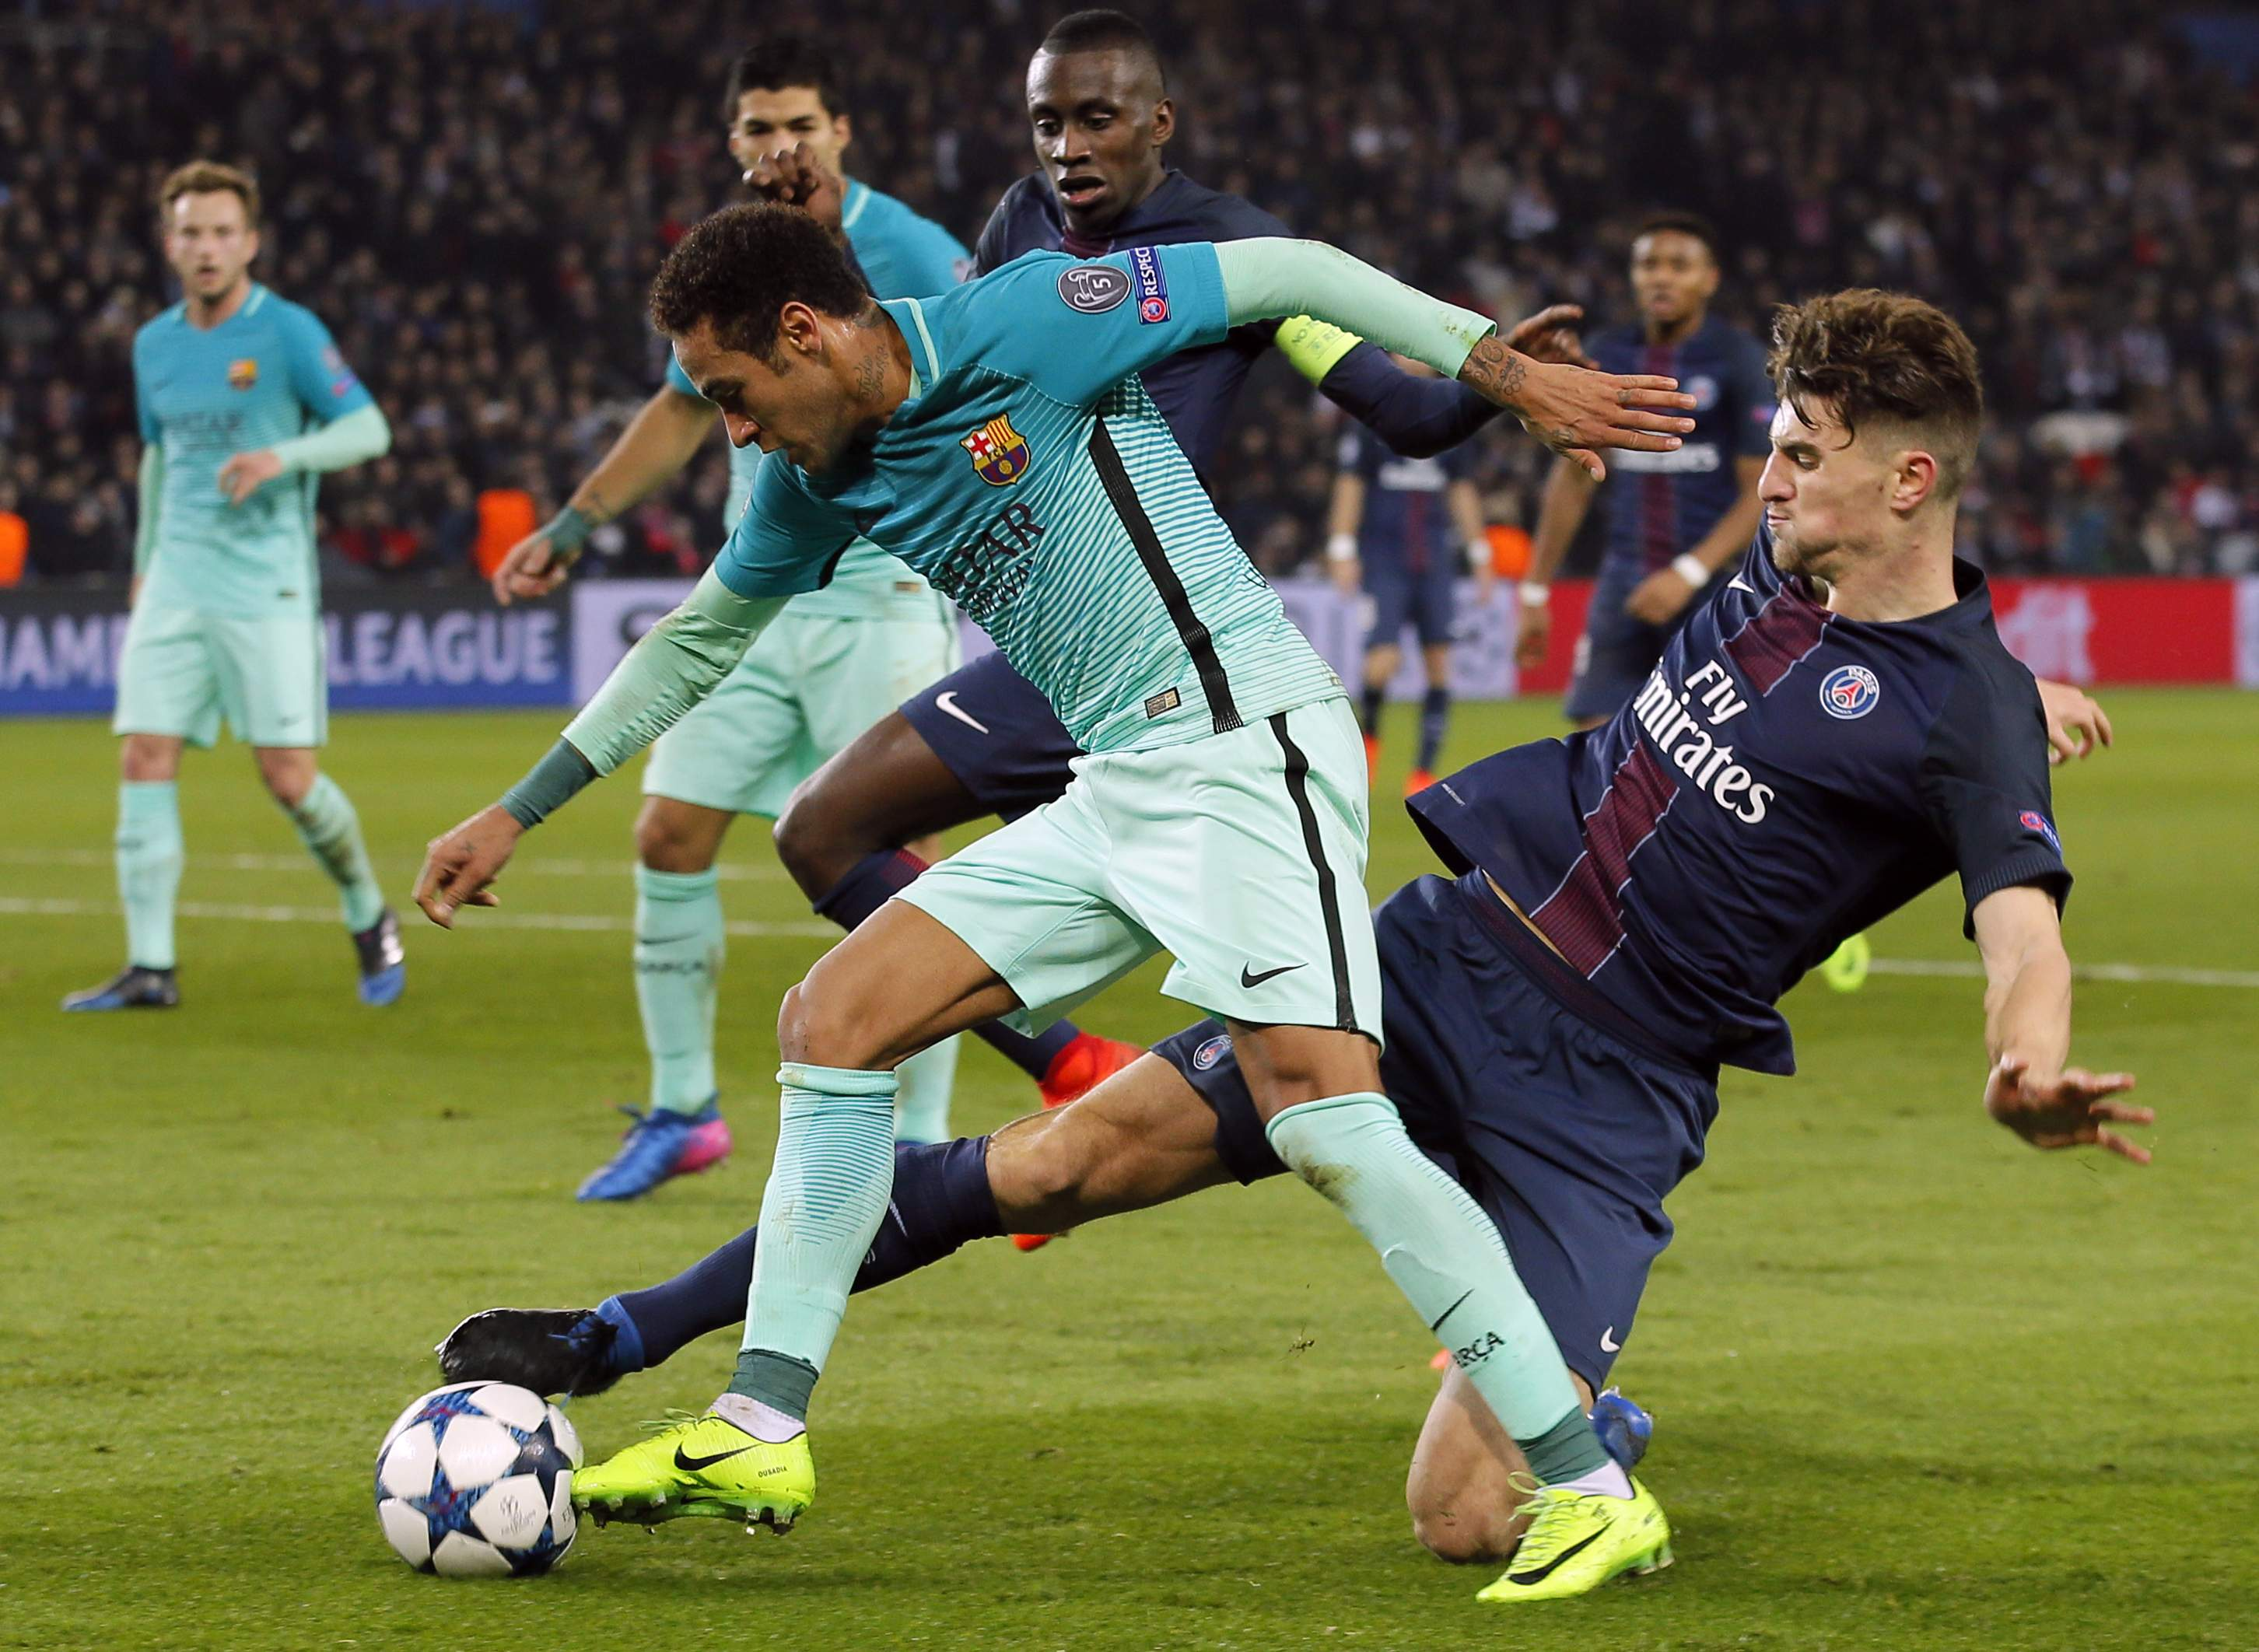soccer player: (460, 264, 2164, 1523), (430, 186, 1717, 1601), (776, 19, 1396, 993), (489, 72, 997, 1209), (95, 140, 408, 1039), (1571, 211, 1767, 704), (1352, 276, 1476, 789)
soccerball: (362, 1380, 589, 1591)
